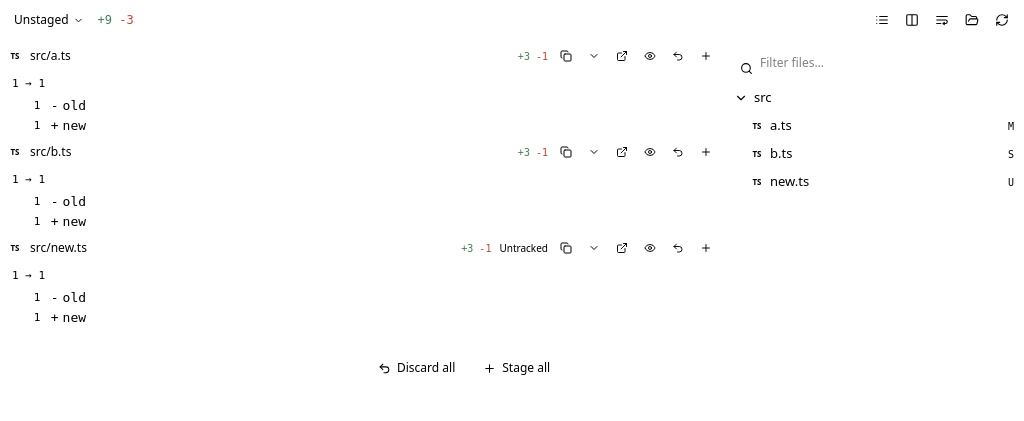
per-file actions › reports which paths a partly failed write could not apply
Click the button with test id "workspace-review-stage-all": (517, 368) x1=471 y1=352 x2=562 y2=384
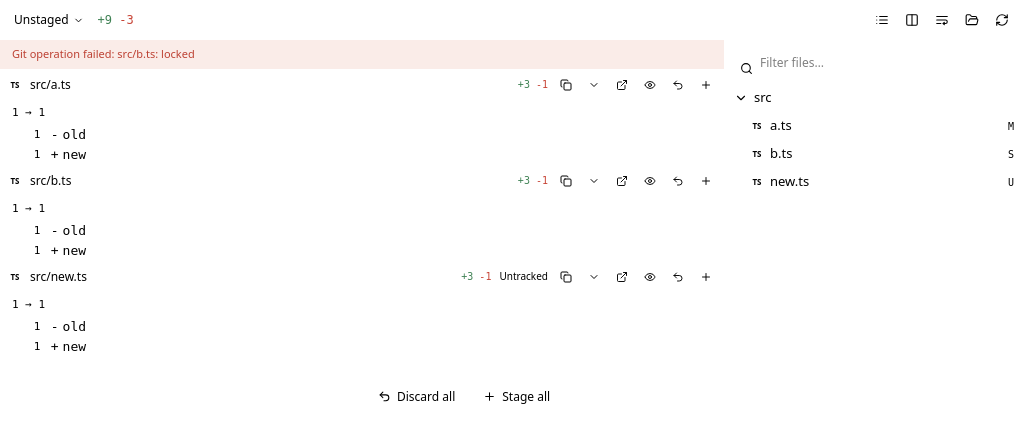
Check: the text "Git operation failed: src/b.ts: locked" is shown, box x1=0 y1=40 x2=724 y2=68
